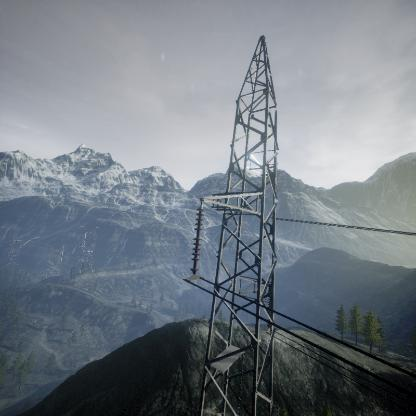insulator: (188, 204, 206, 275)
